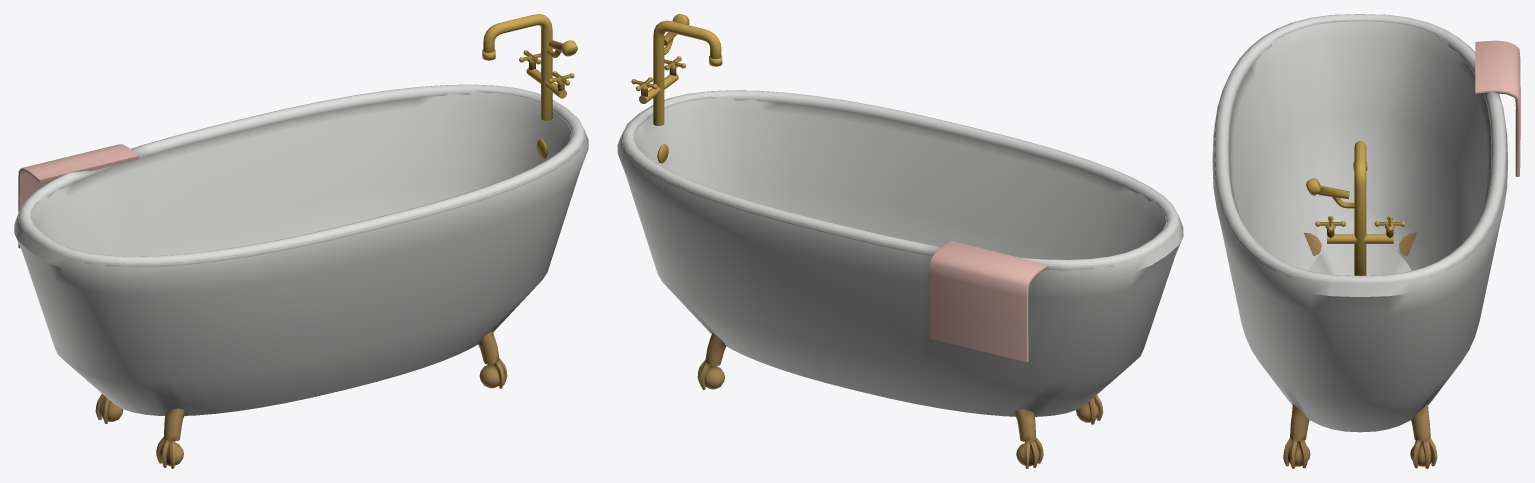
File: bathtubClawfoot.glb
The picture shows the model from 3 angles, left to right: view 1: azimuth 30°, elevation 25°; view 2: azimuth 150°, elevation 25°; view 3: azimuth 270°, elevation 25°; orthographic projection. The views are drawn at different scales.
Visible parts, largest first — view 1: body; view 2: body; view 3: body.
Boxes of the visible parts, x1=… form: body: x1=14, y1=14, x2=588, y2=468; body: x1=617, y1=14, x2=1183, y2=468; body: x1=1212, y1=14, x2=1520, y2=468.
Bounding box in the file's own units: 1.73 × 1.02 × 0.8292.
